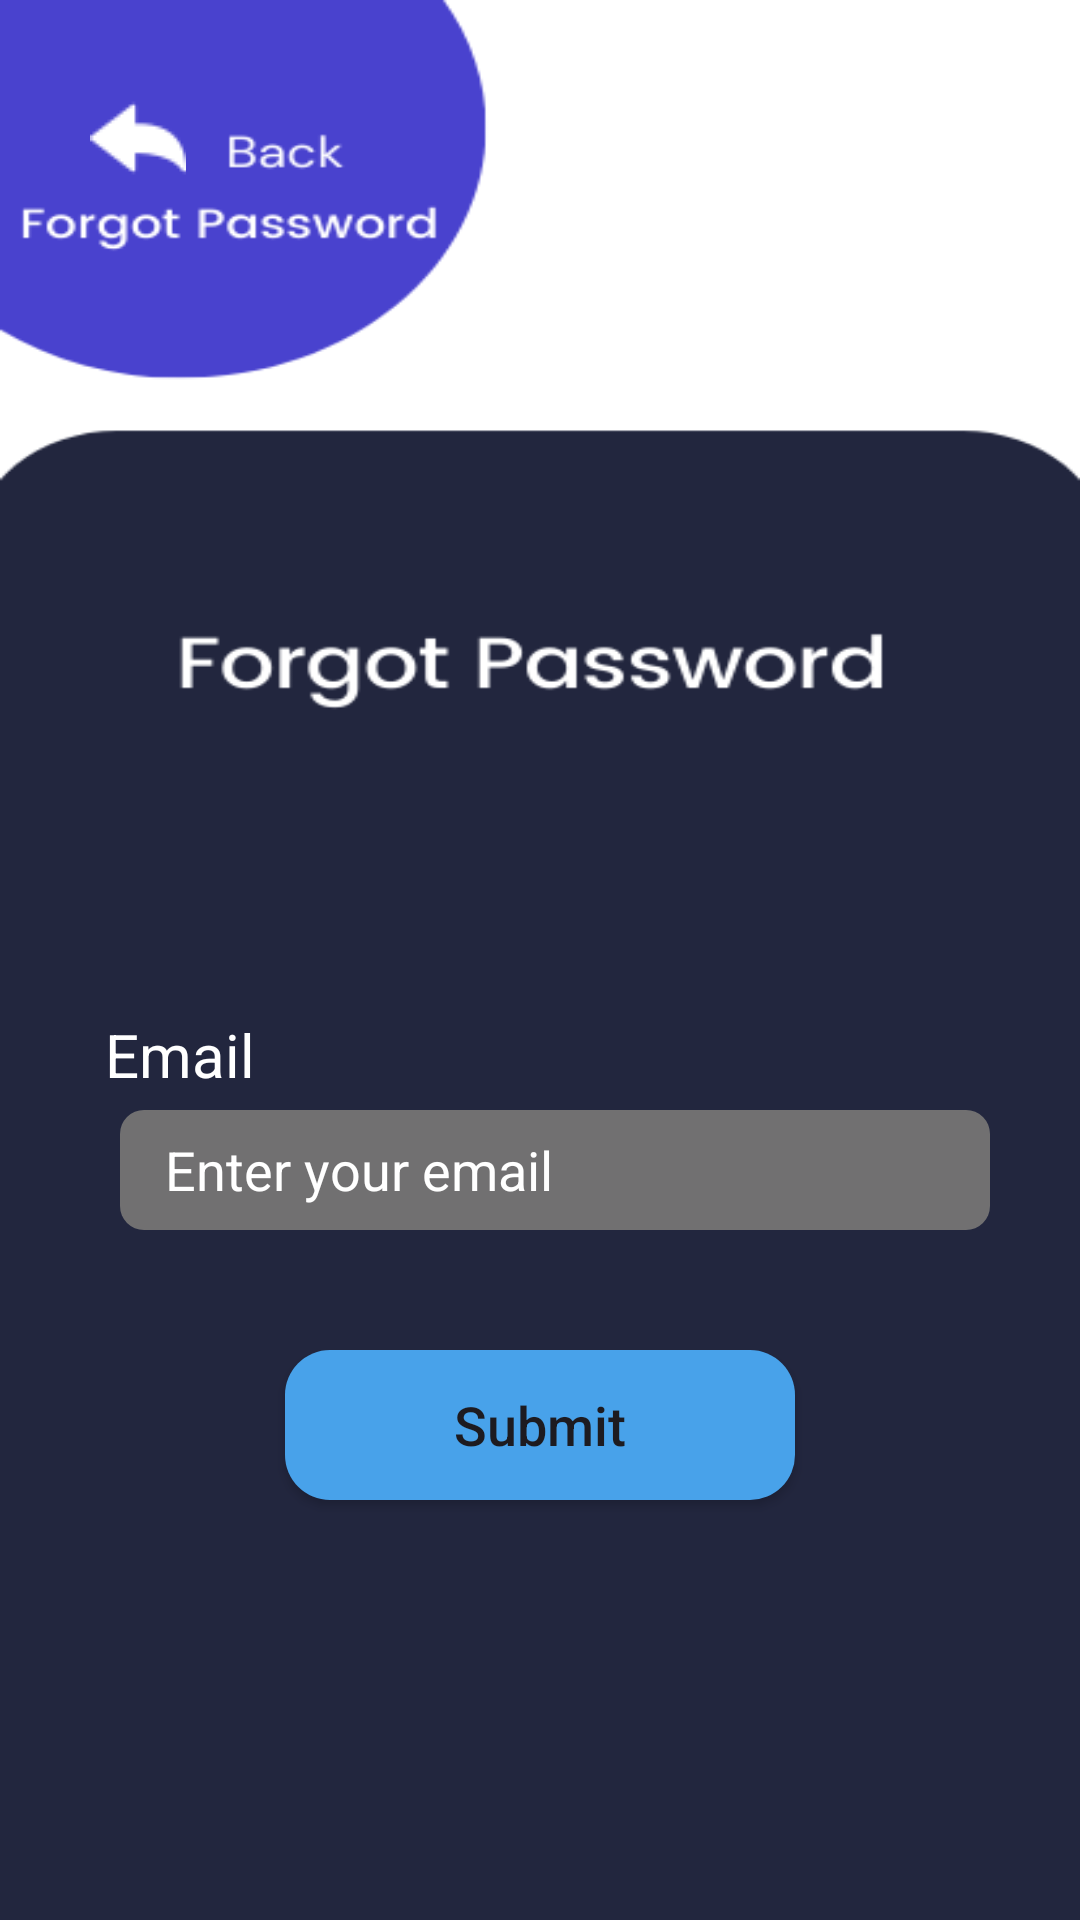

Point at icon controls on the screen. Image size 1080px x 1920px, points as (x=x, y=y).
back: (x=138, y=138)
